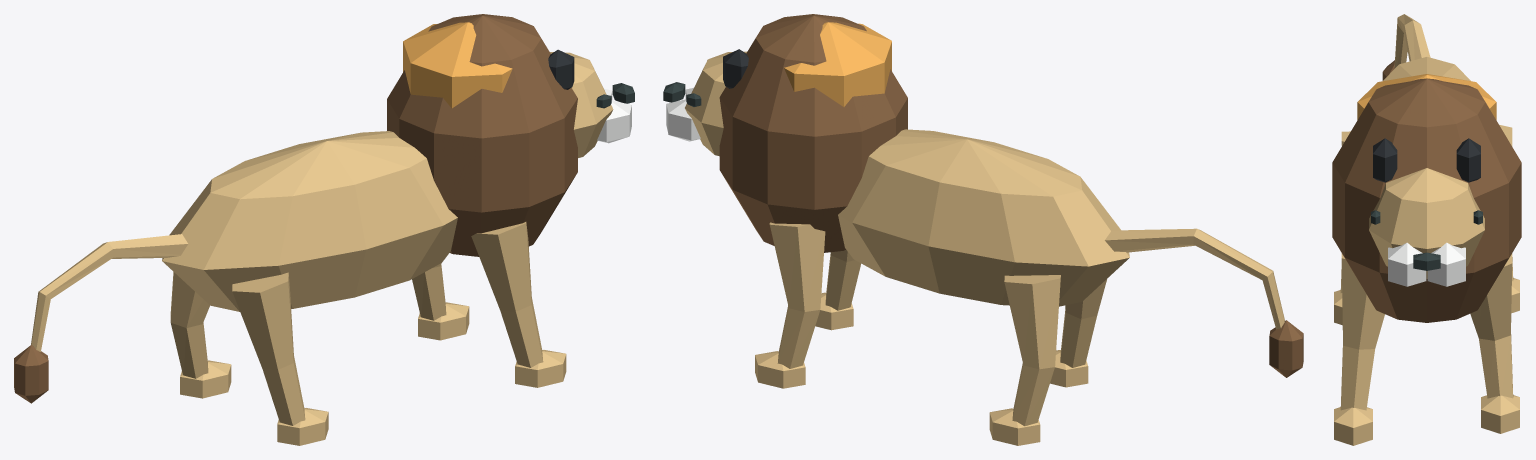
Rendered from modern-lion.7092b75216cc.glb.
3 views of the same model, side by side, from view 1: azimuth 30°, elevation 25°; view 2: azimuth 150°, elevation 25°; view 3: azimuth 270°, elevation 25° (orthographic). The views are drawn at different scales.
Visible parts, largest first — view 1: modern-lion; view 2: modern-lion; view 3: modern-lion.
Part boxes in pixels (bbox=[...]): modern-lion: bbox=[14, 14, 634, 445]; modern-lion: bbox=[663, 14, 1303, 445]; modern-lion: bbox=[1332, 14, 1521, 445].
Bounding box in the file's own units: 1 × 0.5288 × 0.2573.
